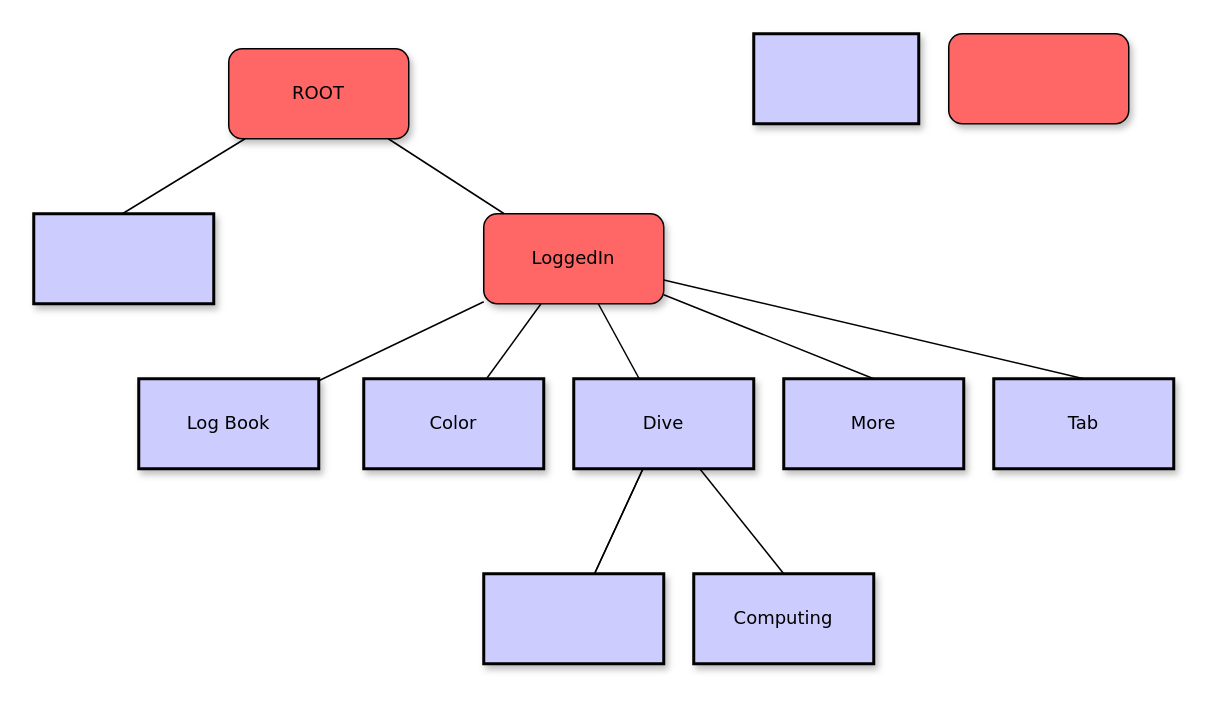
The diagram is 1209 pixels wide and 701 high, and some of its shapes have lost their labels. The centre of each missing label's shape, as x and y in pixels:
"LoggedOut" goes at (x=125, y=260).
"Setting" goes at (x=575, y=620).
"View State" goes at (x=837, y=80).
"Viewless State" goes at (x=1039, y=80).
